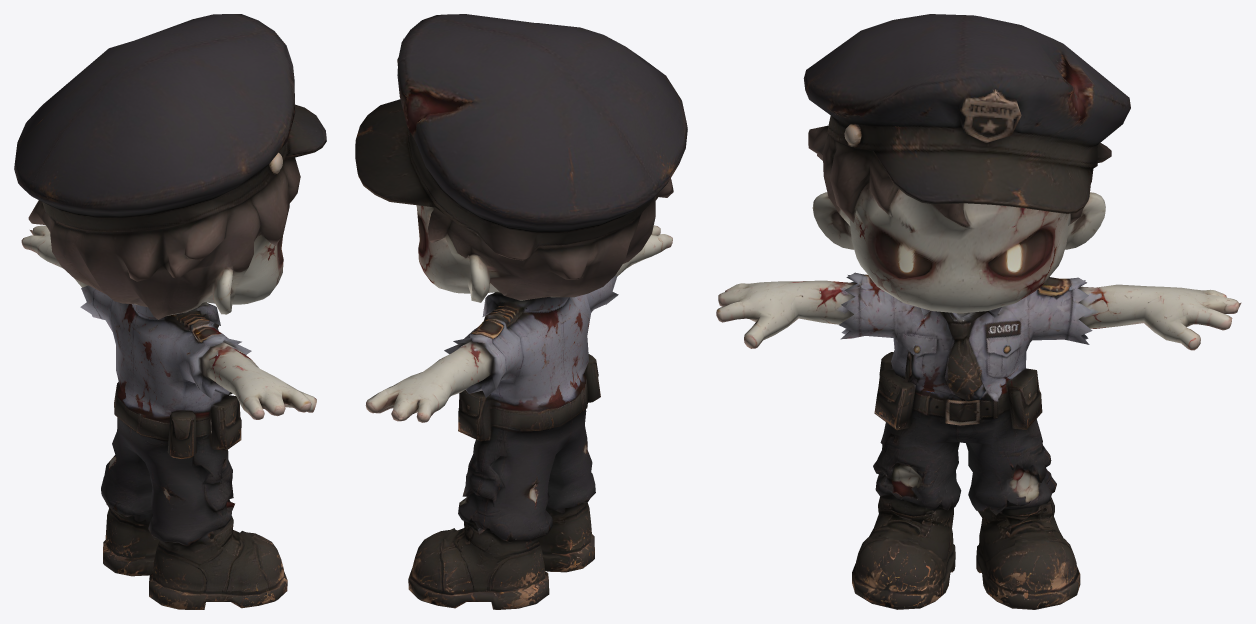
The model's file is enm_ranged_sporeshooter01_source_v001.fbx.
3 views of the same model, side by side, from view 1: azimuth 30°, elevation 25°; view 2: azimuth 150°, elevation 25°; view 3: azimuth 270°, elevation 25° (orthographic). The views are drawn at different scales.
Parts seen in each view (by area): view 1: tripo_node_4b763a81; view 2: tripo_node_4b763a81; view 3: tripo_node_4b763a81.
Part boxes in pixels (x1,y1,x2,y2): tripo_node_4b763a81: (14,14,326,609); tripo_node_4b763a81: (355,14,687,609); tripo_node_4b763a81: (716,14,1241,609).
Size of the model in its own units: 0.5542 by 0.9995 by 0.8647.
